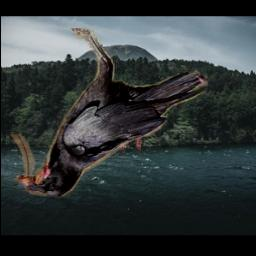Crow: (4, 28, 208, 203)
